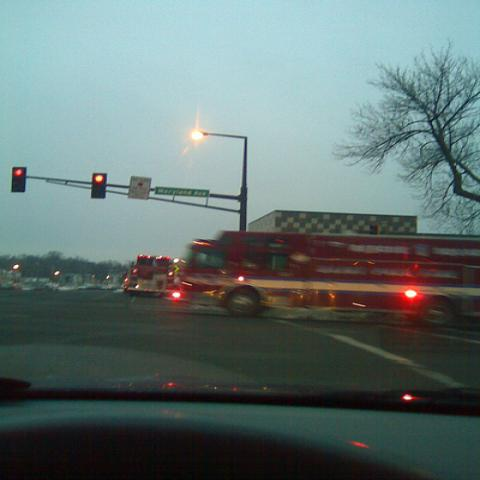car: (78, 269, 126, 291)
truck: (179, 228, 479, 318), (123, 253, 181, 300)
